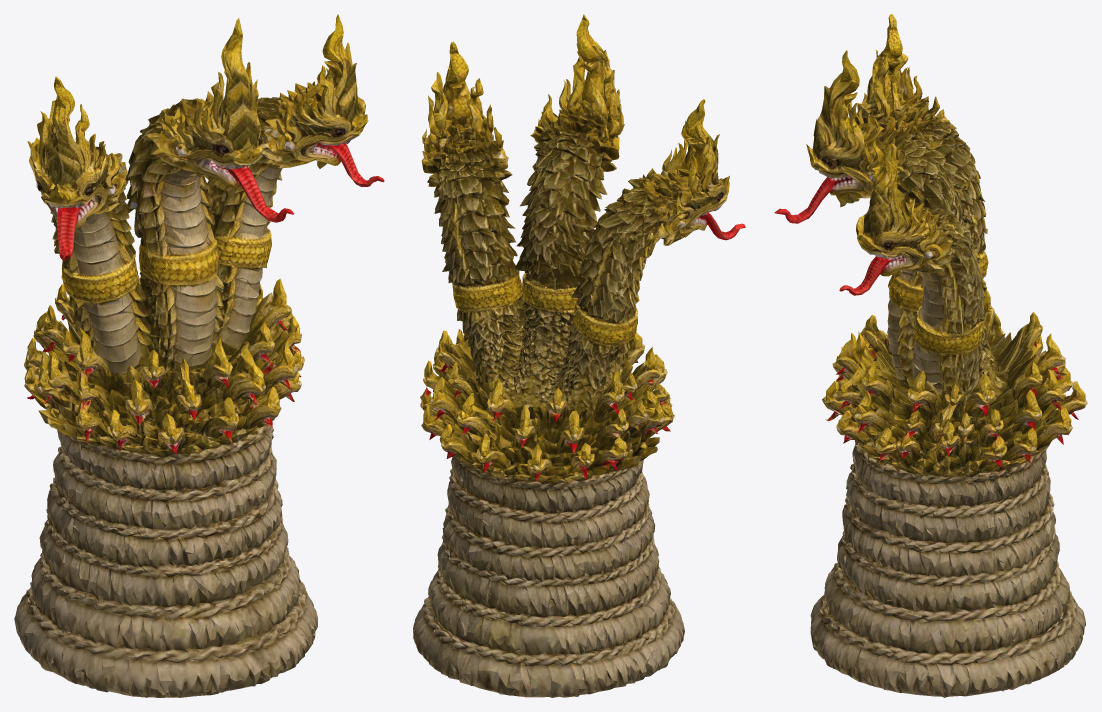
Rendered from w3hnagagold.glb.
The picture shows the model from 3 angles, left to right: view 1: azimuth 30°, elevation 25°; view 2: azimuth 150°, elevation 25°; view 3: azimuth 270°, elevation 25°; orthographic projection. The views are drawn at different scales.
Visible parts, largest first — view 1: output_unwrapped; view 2: output_unwrapped; view 3: output_unwrapped.
Part boxes in pixels (x1,y1,x2,y2): output_unwrapped: (14, 14, 384, 697); output_unwrapped: (413, 14, 745, 697); output_unwrapped: (774, 14, 1087, 697).
Size of the model in its own units: 0.5387 by 1.05 by 0.4957.
1 material, 1 textured.
